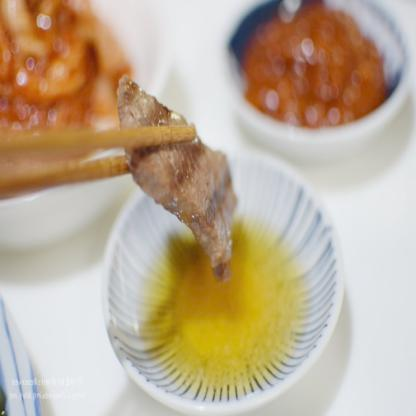Carne: (117, 71, 248, 266)
